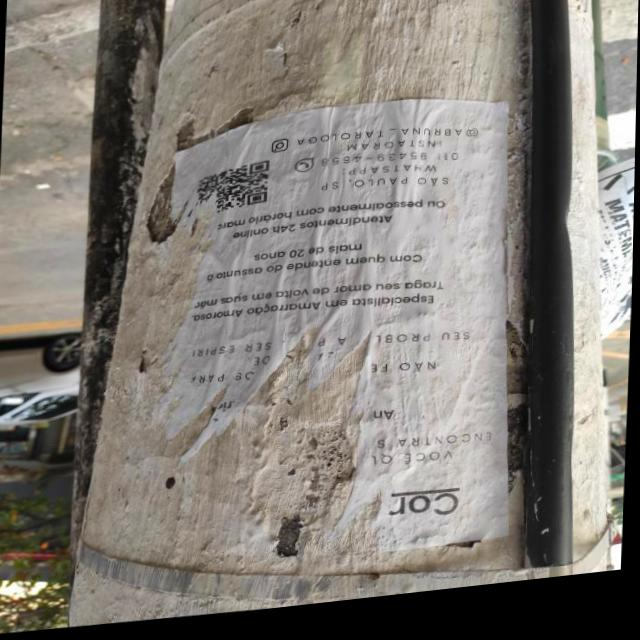qrcode: (197, 165, 269, 220)
